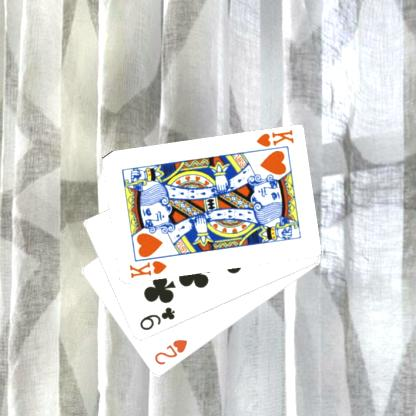2H: (152, 336, 188, 366)
9C: (137, 304, 177, 332)
KH: (127, 258, 168, 280), (253, 127, 295, 148)
